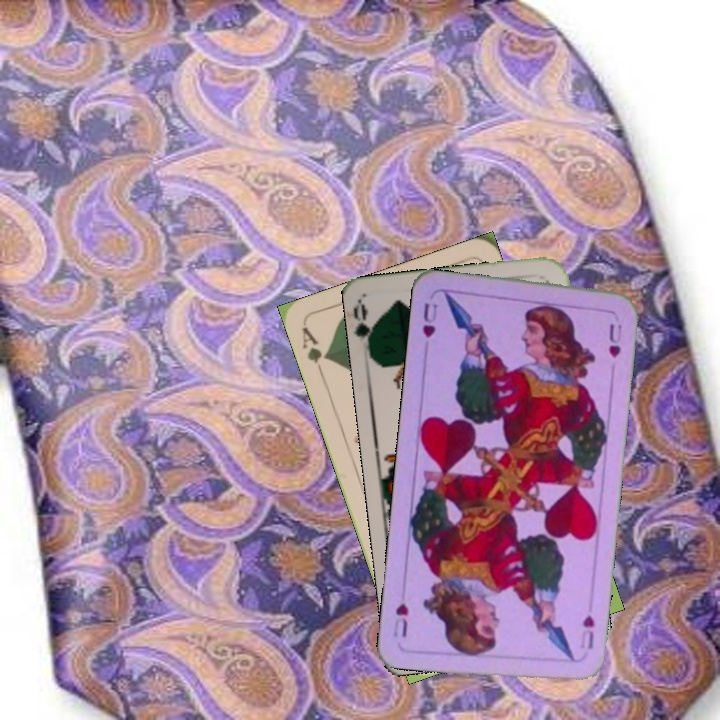GA: (298, 322, 332, 380)
GO: (351, 301, 380, 360)
HU: (418, 299, 440, 340), (576, 611, 597, 652)
